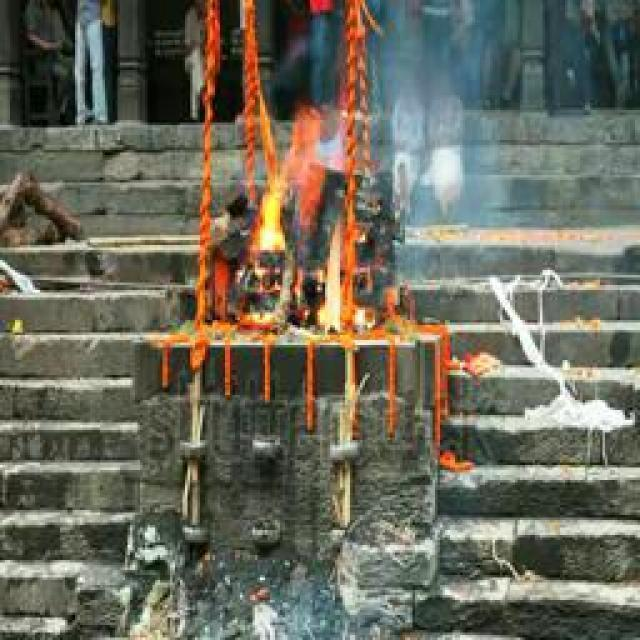Fire: (260, 110, 353, 336)
